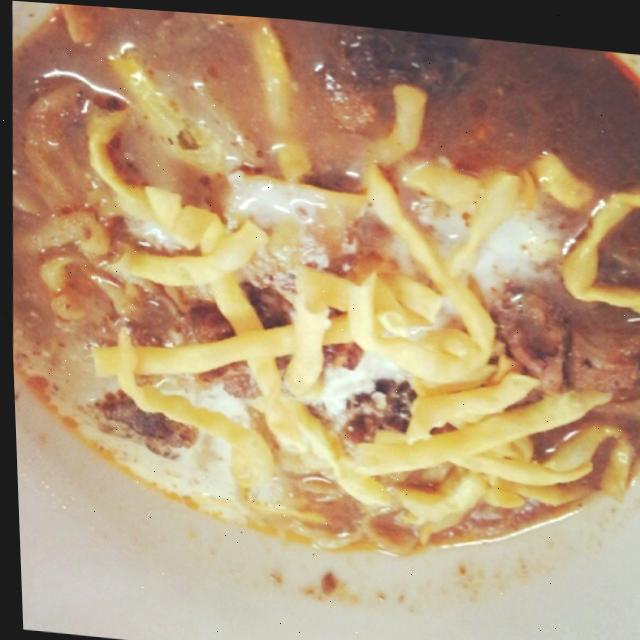面条主食: (6, 3, 640, 602)
